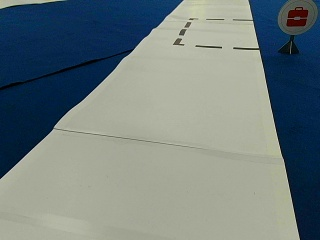company: (278, 0, 317, 34)
